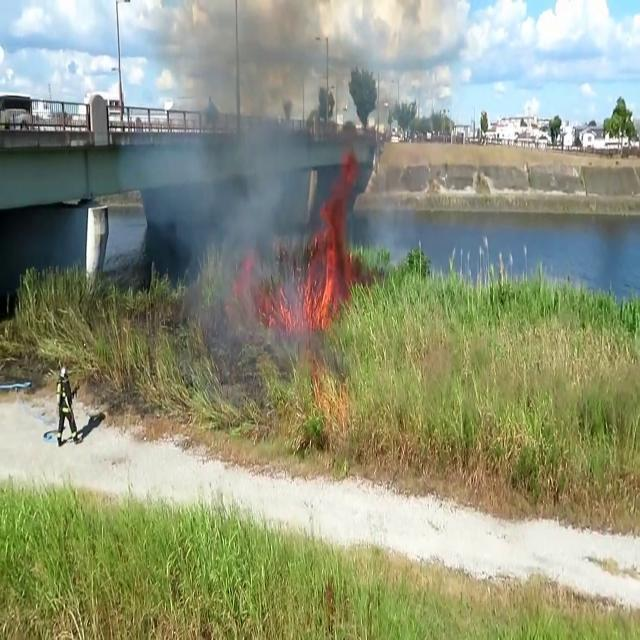Fire: (300, 163, 354, 334)
Smoke: (146, 2, 302, 348)
